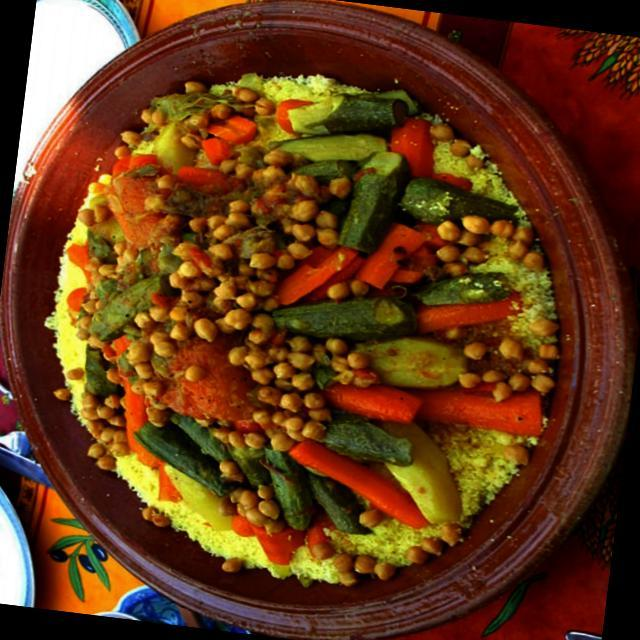Couscous: (0, 32, 607, 633)
